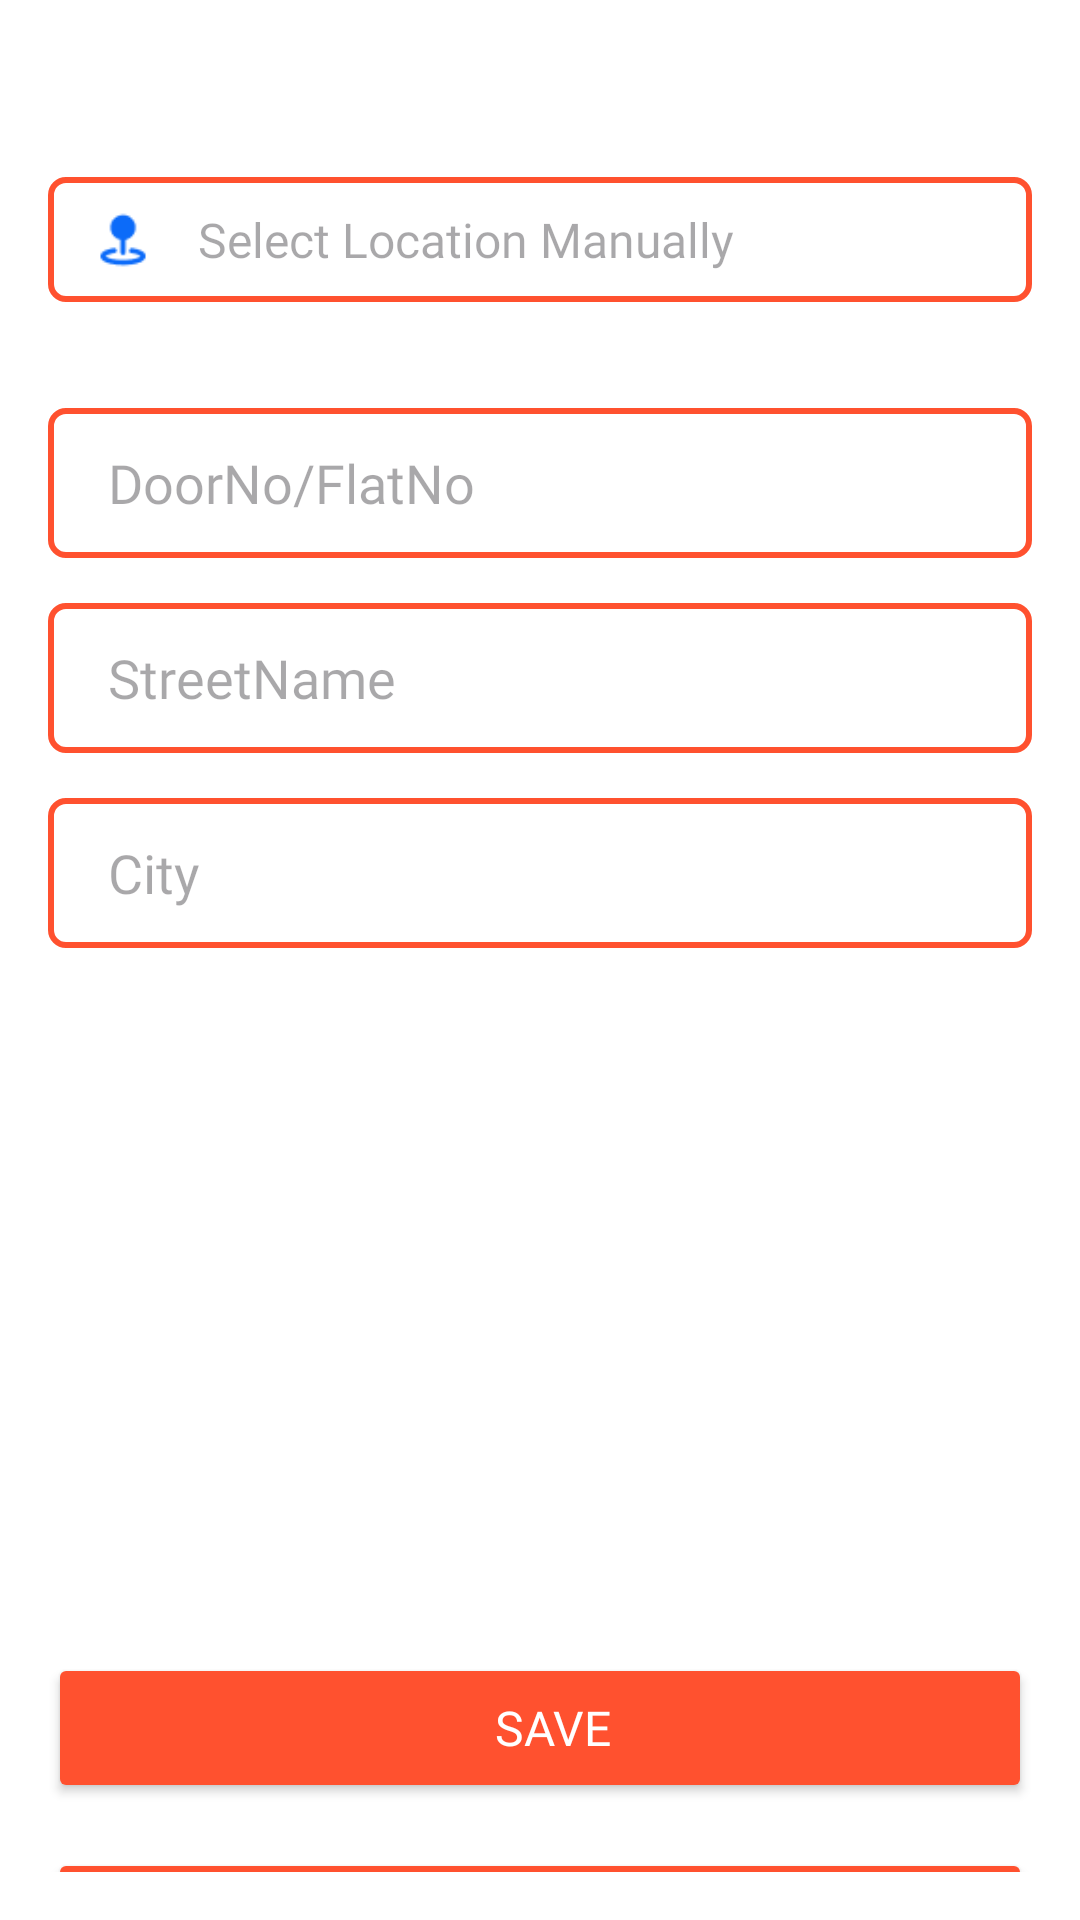

Screen size 1080 × 1920. Icon name, then its box in pixels as bbox(x1, y1, x2, y2):
map: bbox(100, 213, 146, 267)
